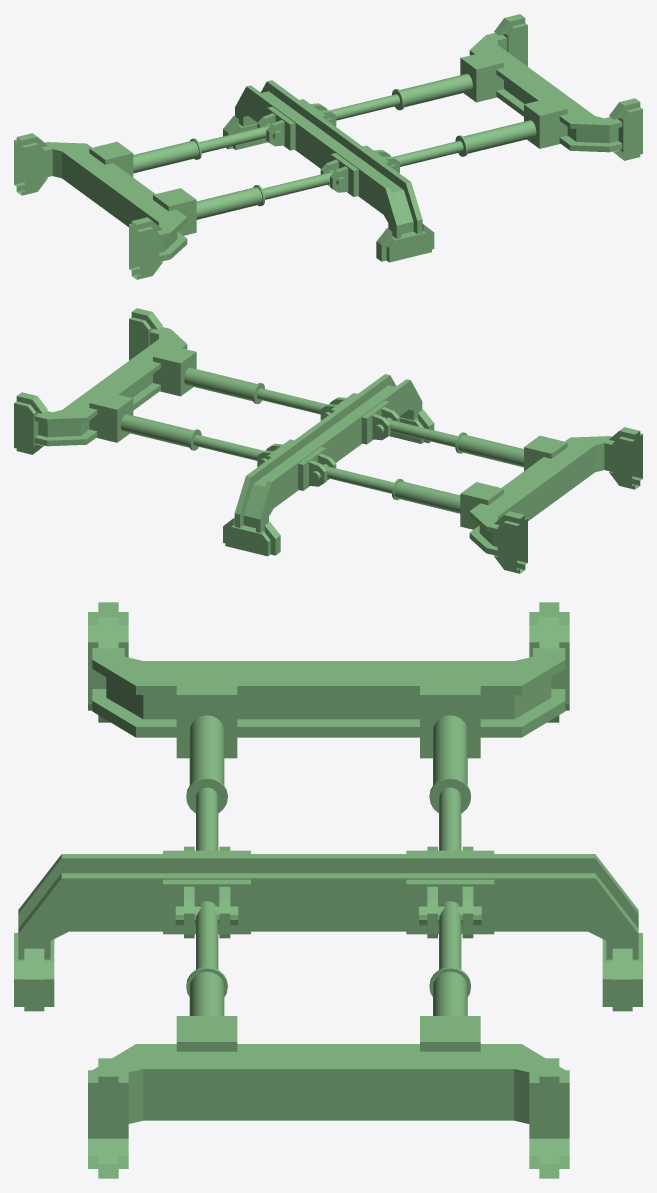
File: LB_BoxUpArm.fbx
The picture shows the model from 3 angles, top to bottom: view 1: azimuth 30°, elevation 25°; view 2: azimuth 150°, elevation 25°; view 3: azimuth 270°, elevation 25°; orthographic projection. The views are drawn at different scales.
Parts seen in each view (by area): view 1: polySurface260; view 2: polySurface260; view 3: polySurface260.
Boxes of the visible parts, x1,y1,x2,y2 form: polySurface260: (14, 14, 642, 279); polySurface260: (14, 308, 642, 573); polySurface260: (14, 602, 642, 1178).
Size of the model in its own units: 458 by 67.54 by 258.
